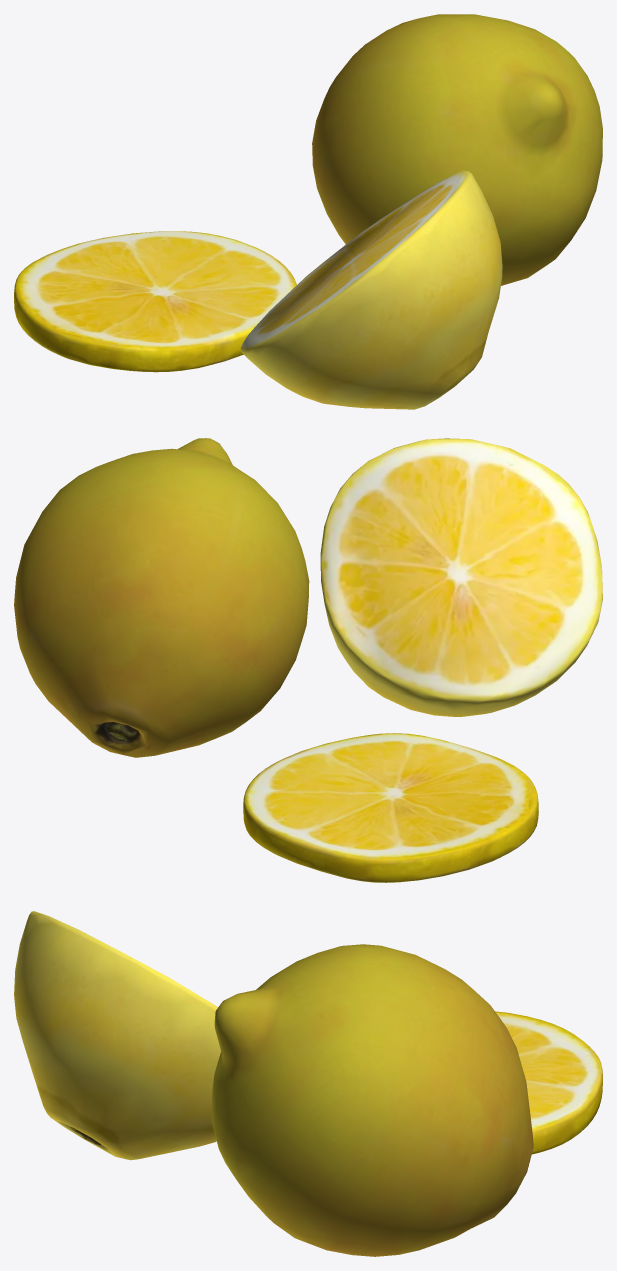
File: lemon.glb
3 views of the same model, one above another, from view 1: azimuth 30°, elevation 25°; view 2: azimuth 150°, elevation 25°; view 3: azimuth 270°, elevation 25° (orthographic). The views are drawn at different scales.
Parts seen in each view (by area): view 1: lemon.001_2, lemon cut.001_0, lemon slice.001_1; view 2: lemon.001_2, lemon cut.001_0, lemon slice.001_1; view 3: lemon.001_2, lemon cut.001_0, lemon slice.001_1.
Boxes of the visible parts, x1,y1,x2,y2 form: lemon.001_2: (312, 14, 602, 285); lemon cut.001_0: (240, 170, 502, 409); lemon slice.001_1: (14, 231, 296, 372); lemon.001_2: (14, 438, 309, 757); lemon cut.001_0: (320, 438, 602, 716); lemon slice.001_1: (243, 733, 538, 882); lemon.001_2: (211, 944, 533, 1256); lemon cut.001_0: (14, 911, 220, 1160); lemon slice.001_1: (495, 1011, 602, 1154).
Bounding box in the file's own units: 0.1025 × 0.05 × 0.0949.
Materials: 1 (1 with a texture image).
